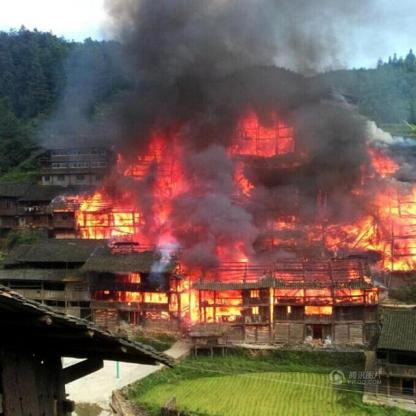fire: (68, 91, 411, 337)
smoke: (86, 12, 360, 123)
